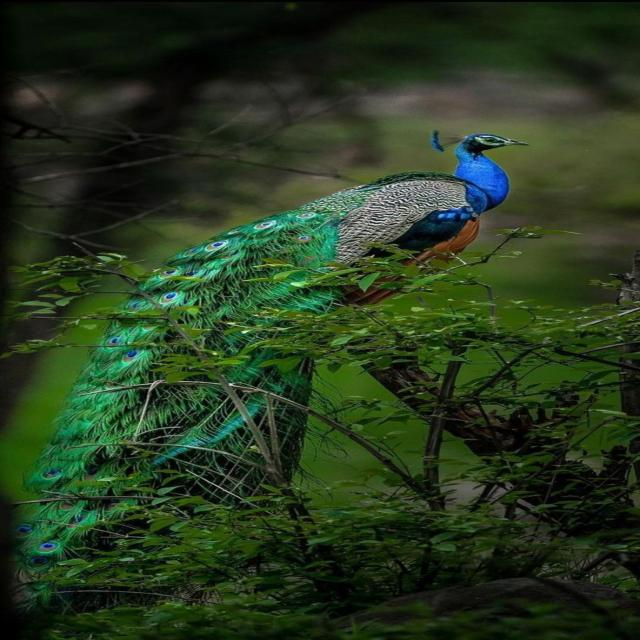peacock: (20, 122, 563, 590)
